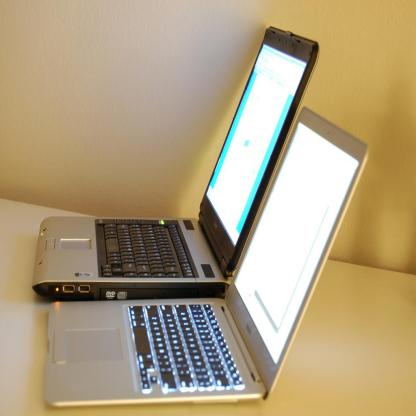board: (42, 106, 370, 410), (33, 25, 319, 303)
